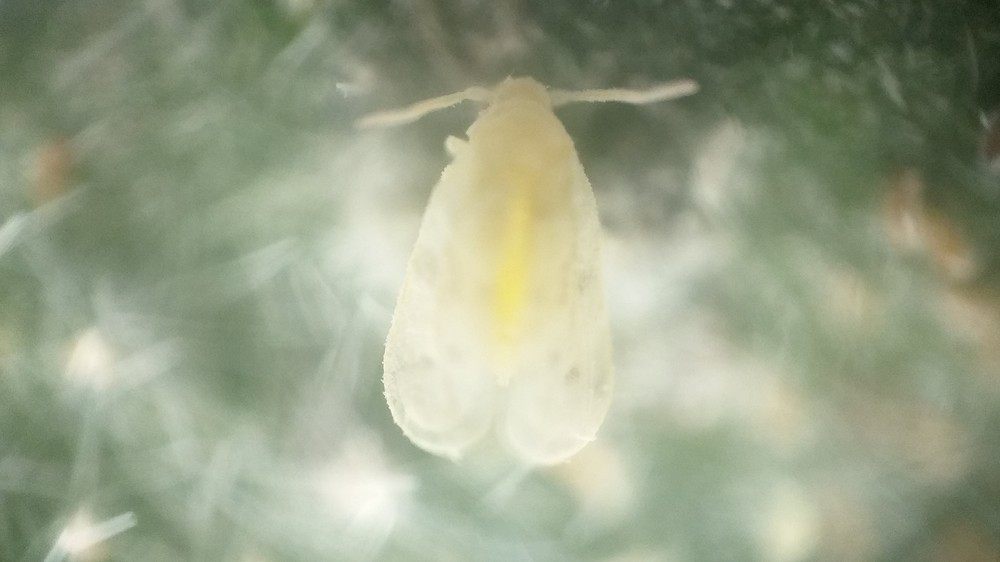Mosca Blanca: (335, 58, 705, 488)
